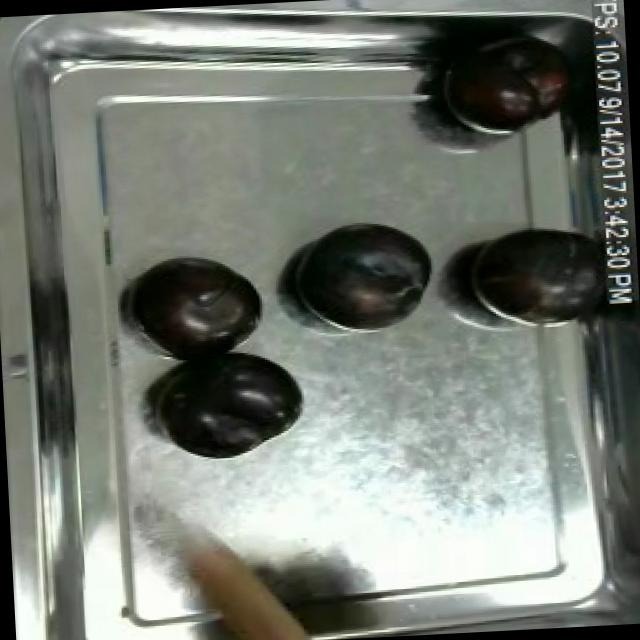Fruit: (150, 339, 312, 461), (456, 214, 614, 334), (282, 212, 442, 330), (434, 35, 581, 142), (130, 249, 267, 352)
